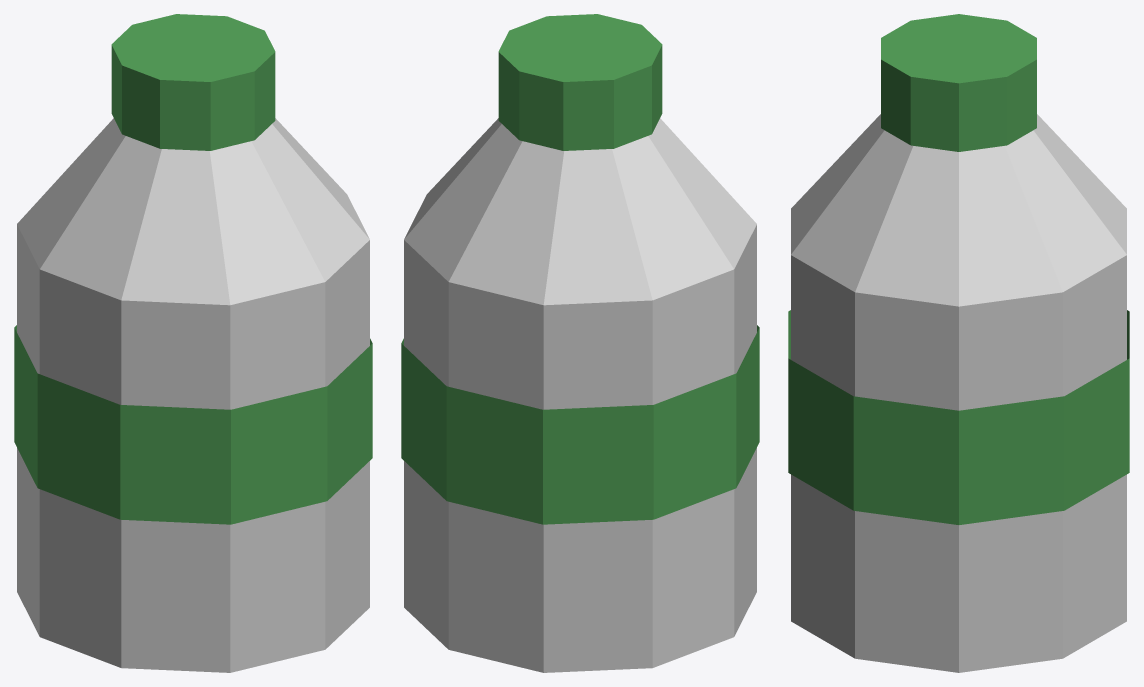
File: goat_milk.obj
The picture shows the model from 3 angles, left to right: view 1: azimuth 30°, elevation 25°; view 2: azimuth 150°, elevation 25°; view 3: azimuth 270°, elevation 25°; orthographic projection.
Parts seen in each view (by area): view 1: item; view 2: item; view 3: item.
Boxes of the visible parts, x1=… form: item: x1=14, y1=14, x2=372, y2=672; item: x1=401, y1=14, x2=759, y2=672; item: x1=788, y1=14, x2=1129, y2=672.
Size of the model in its own units: 0.284 by 0.48 by 0.2702.
